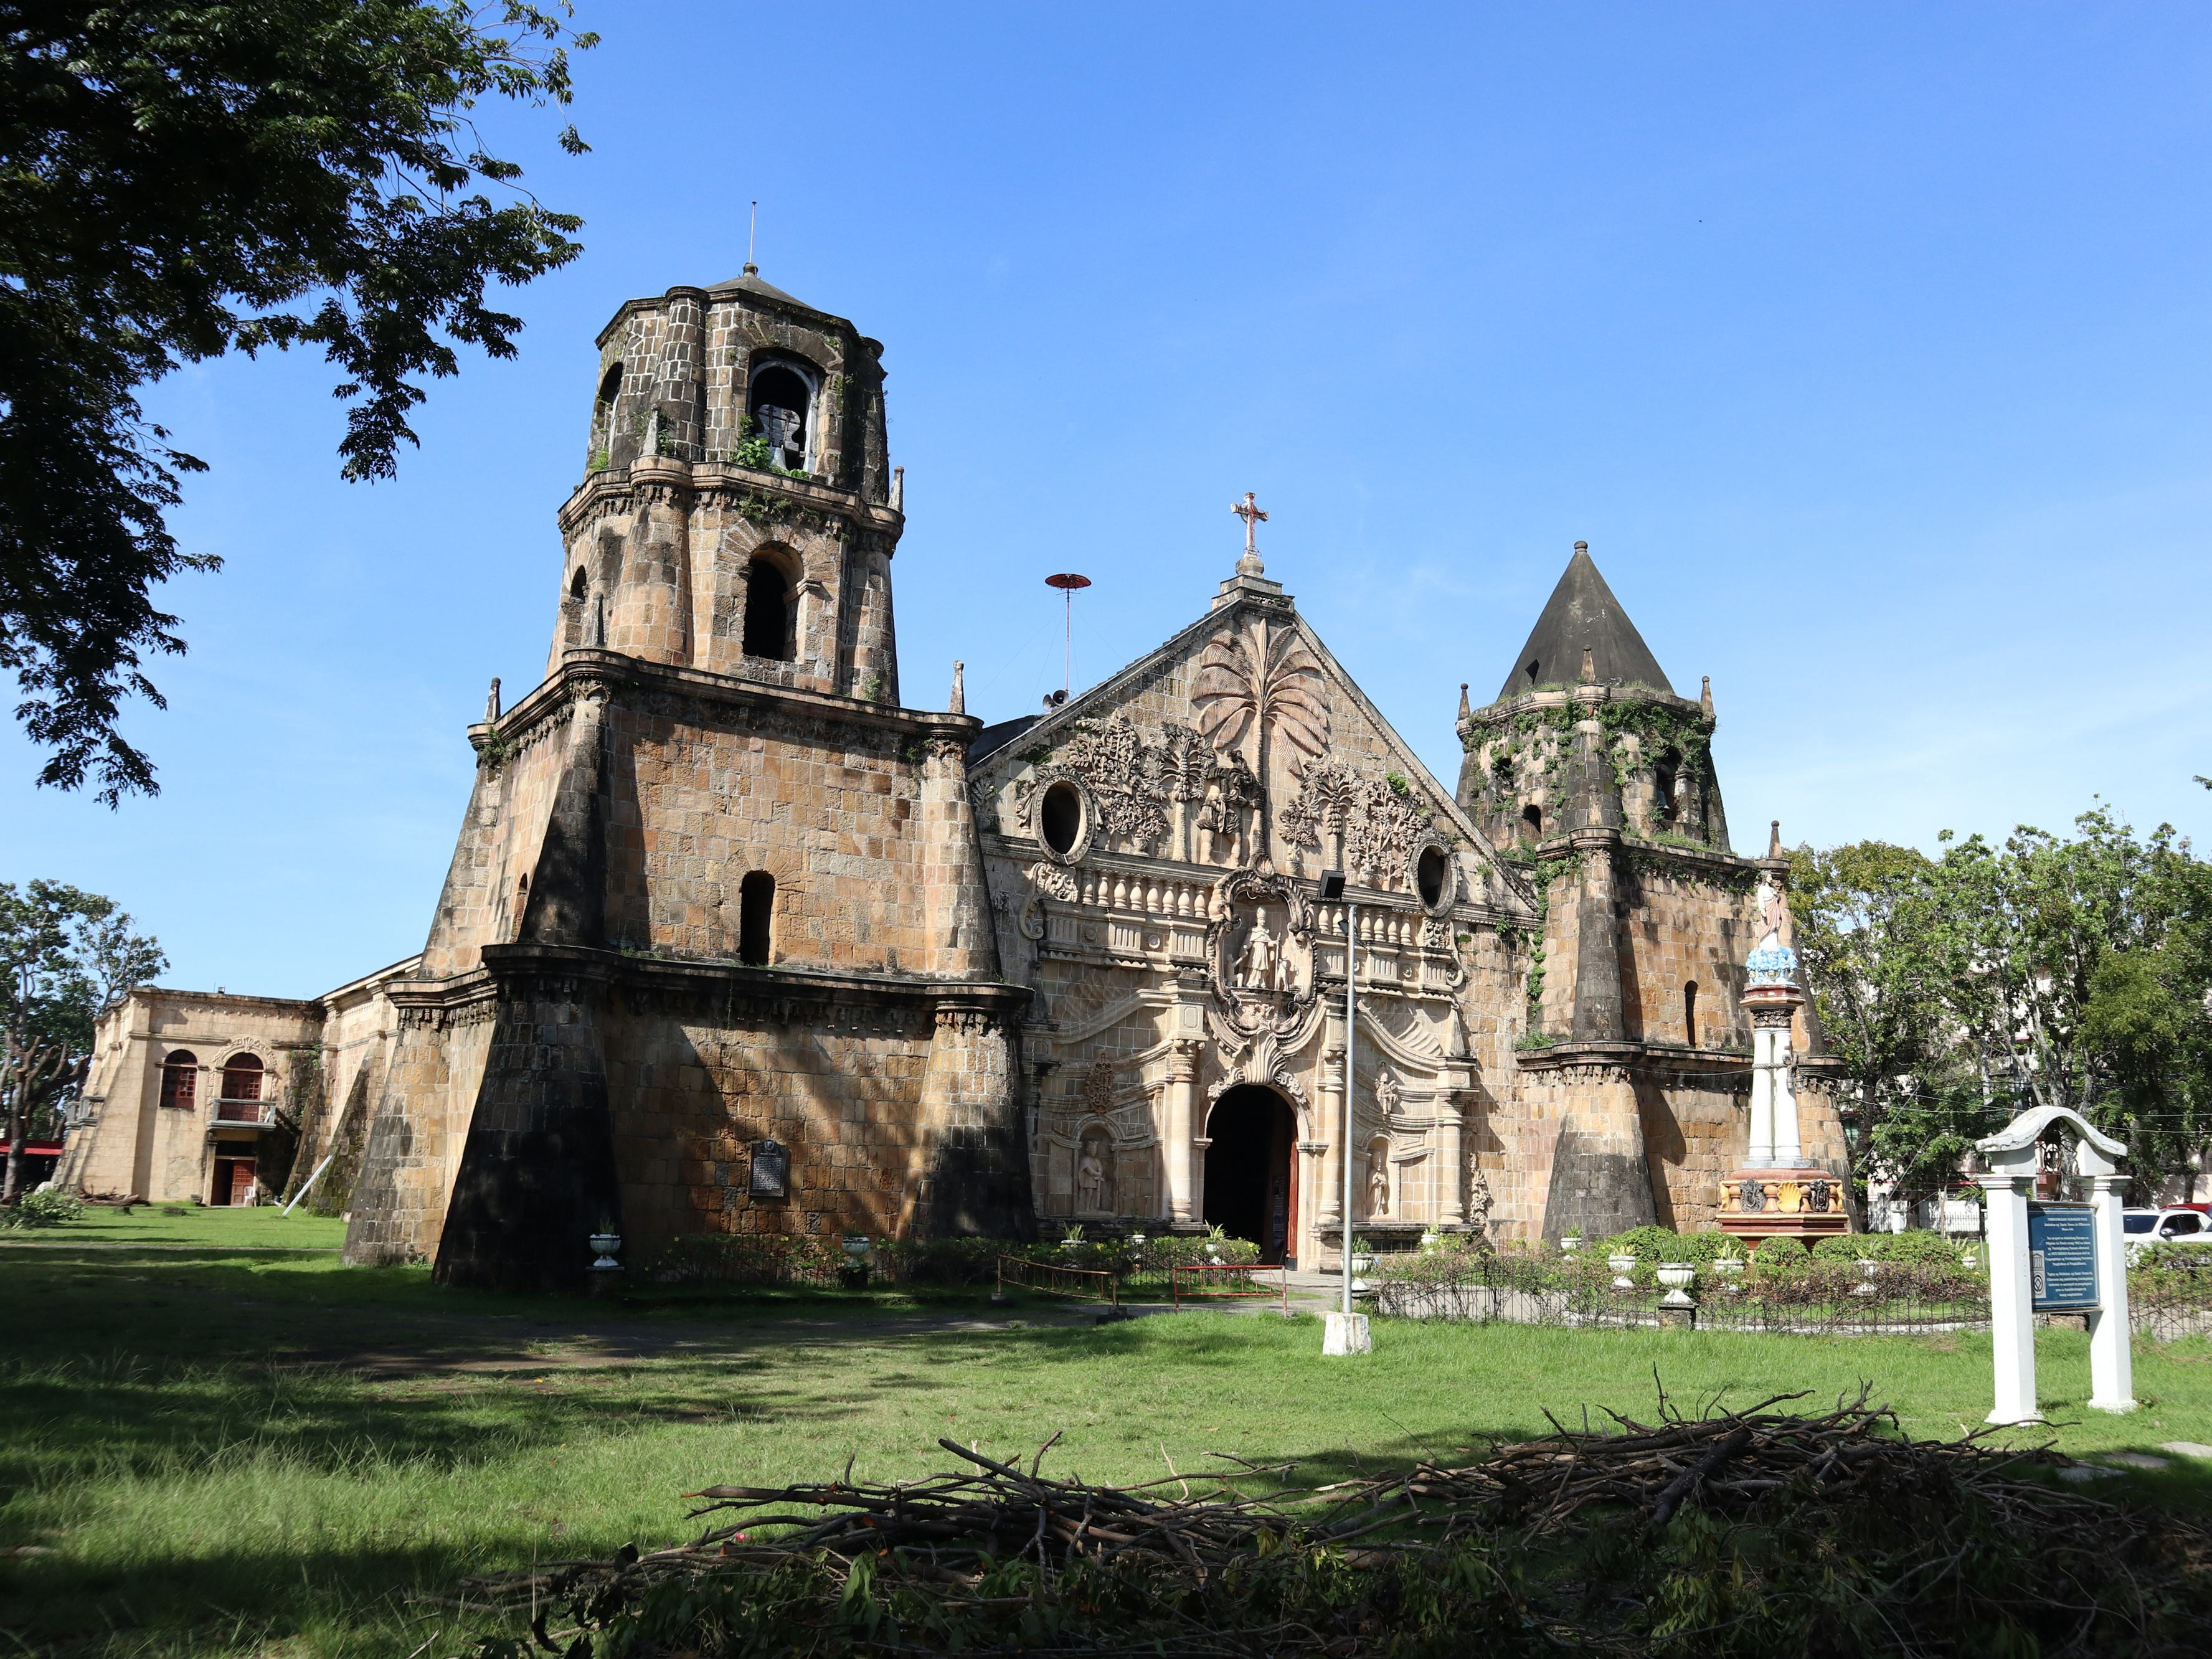miagao_church_miagao_iloilo: (402, 185, 1874, 1290)
